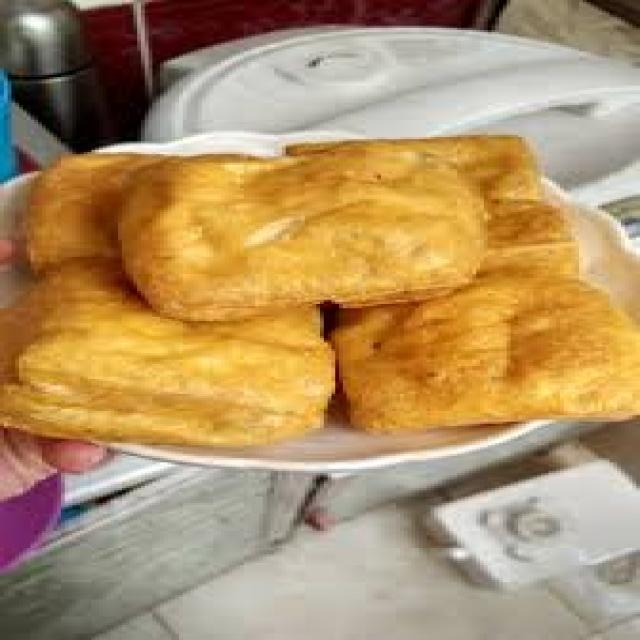Tahu Goreng: (16, 120, 640, 436)
